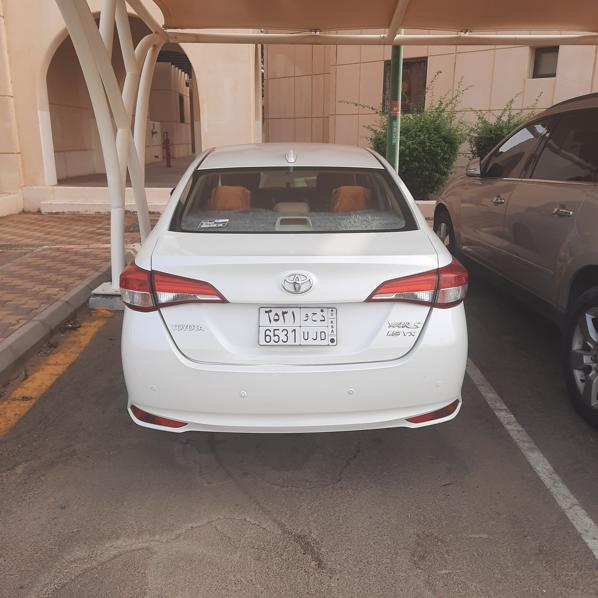numberplate: (258, 307, 337, 344)
